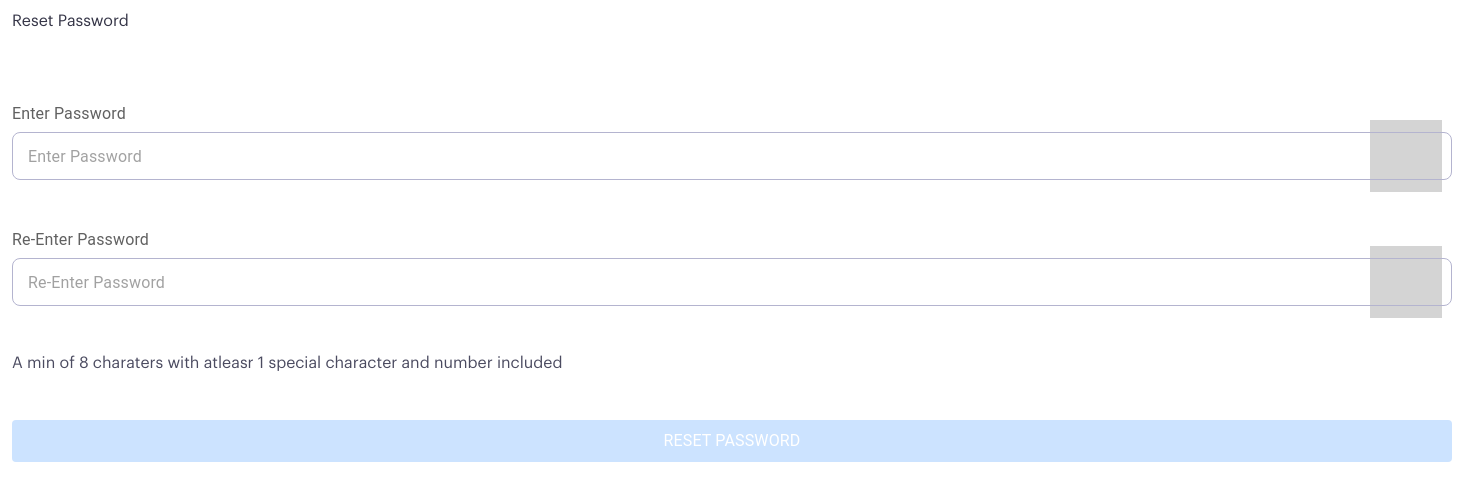
Test: ResetPasswordForm › checks password confirmation correctly
This screenshot has width=1464, height=502.
Step 1. Type "password1!" into the password field with placeholder "Enter Password" → (683, 156), box [12, 132, 1354, 180]
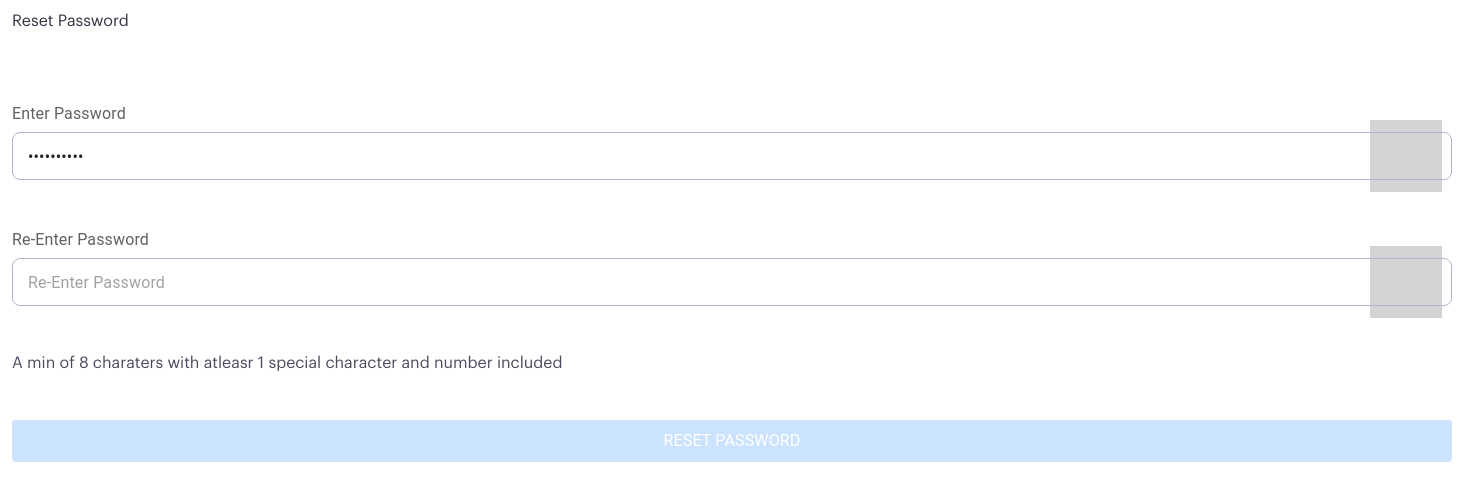
Step 2. Type "password2!" into the password field with placeholder "Re-Enter Password" → (683, 282), box [12, 258, 1354, 306]
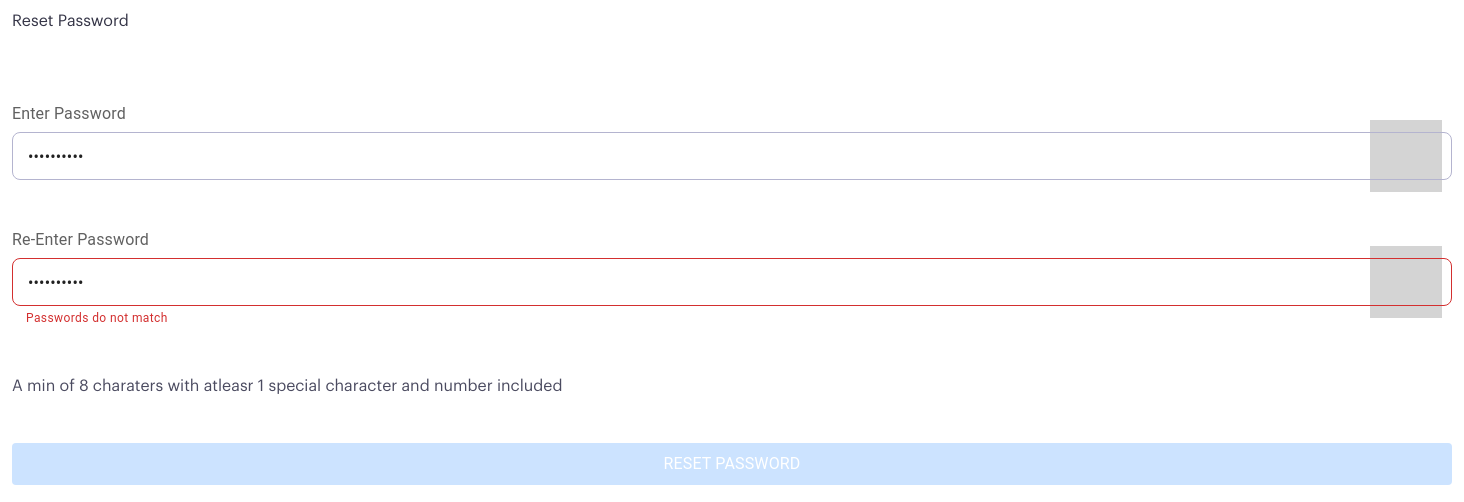
Result: the text "Passwords do not match" is shown at [26, 311, 168, 325]
